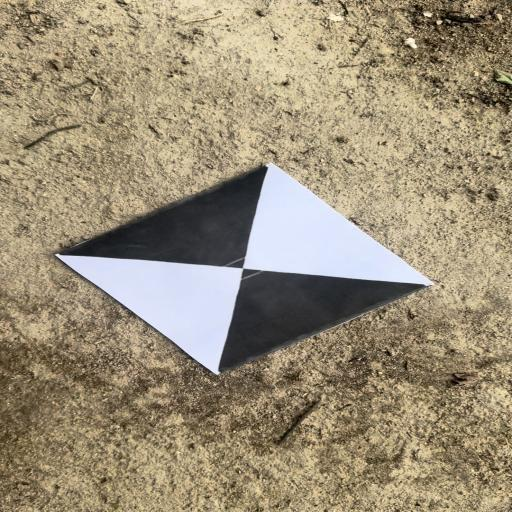target: (59, 161, 434, 374)
